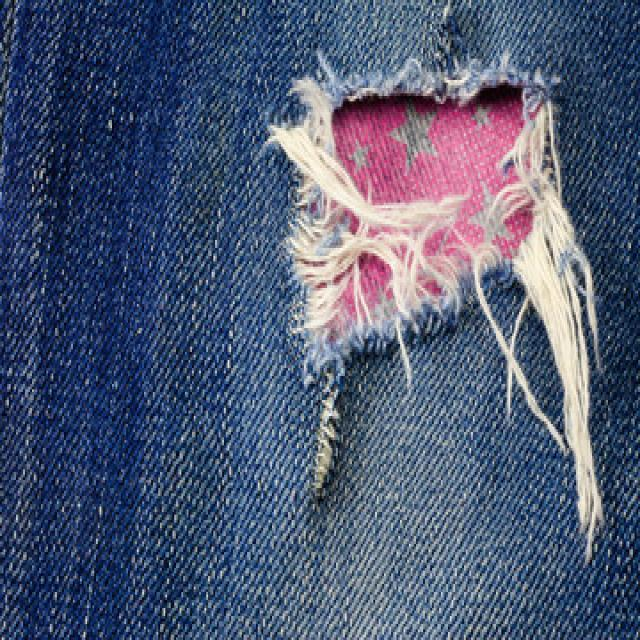Hole: (269, 64, 593, 370), (312, 390, 340, 500)
